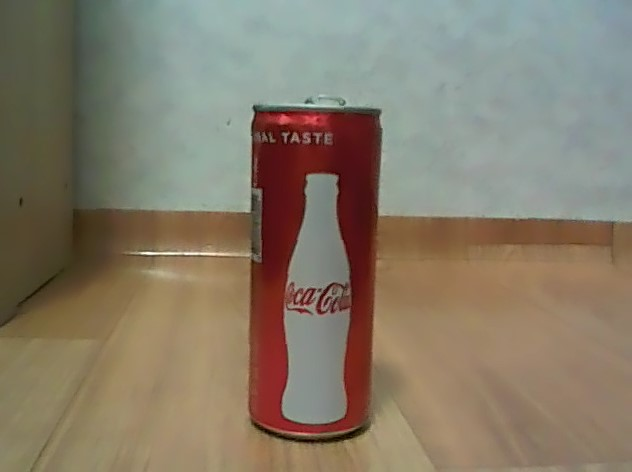Can: (241, 85, 387, 448)
